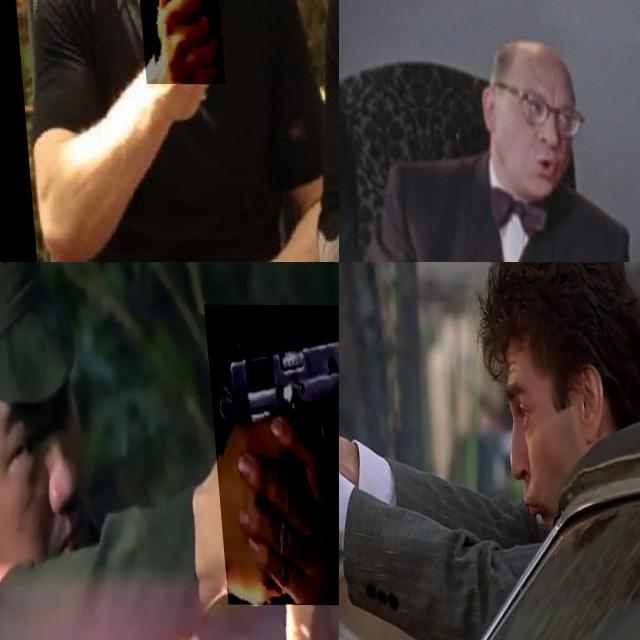-: (125, 0, 218, 111)
gun-knife-thesis - v11 Yolov5 augmented: (202, 304, 339, 604), (339, 330, 403, 498)
